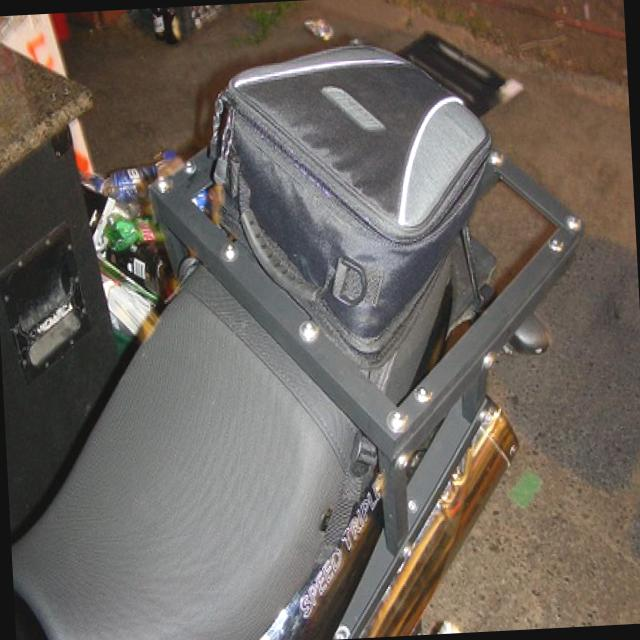Vehicle: (0, 12, 606, 640)
